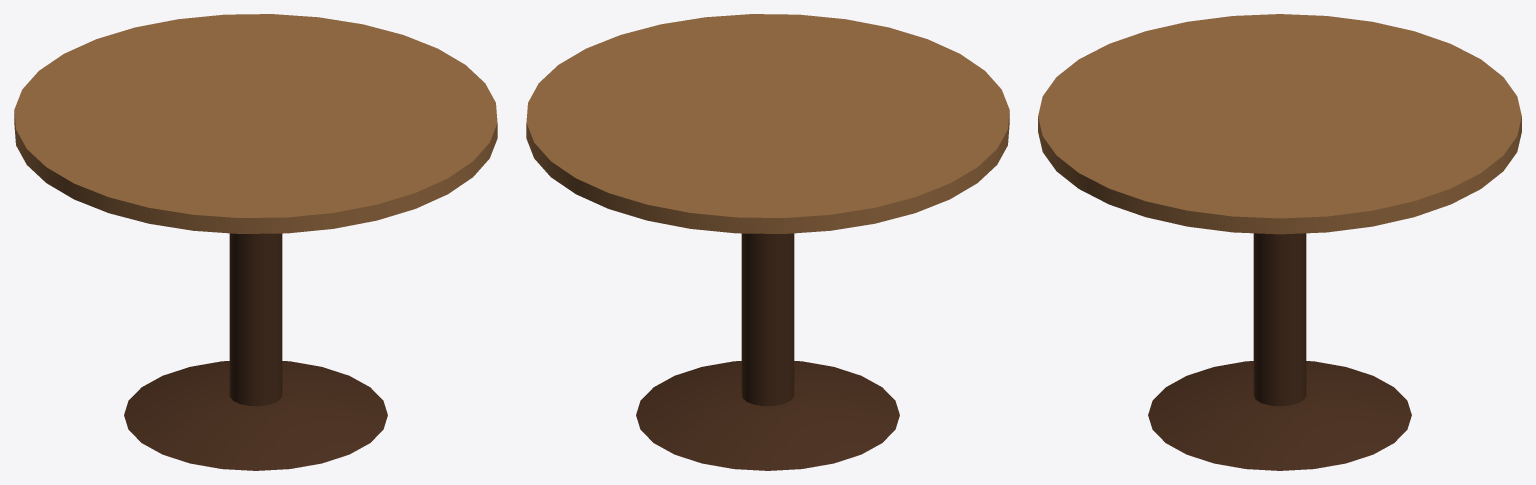
Rendered from Table_Dining_Round.glb.
3 renders of one model, left to right at view 1: azimuth 30°, elevation 25°; view 2: azimuth 150°, elevation 25°; view 3: azimuth 270°, elevation 25°, orthographic.
Visible parts, largest first — view 1: Table_Dining_Round; view 2: Table_Dining_Round; view 3: Table_Dining_Round.
Part boxes in pixels (left/top/right/bottom): Table_Dining_Round: left=14, top=14, right=497, bottom=470; Table_Dining_Round: left=526, top=14, right=1009, bottom=470; Table_Dining_Round: left=1038, top=14, right=1521, bottom=470.
Bounding box in the file's own units: 1.1 × 0.75 × 1.1.
